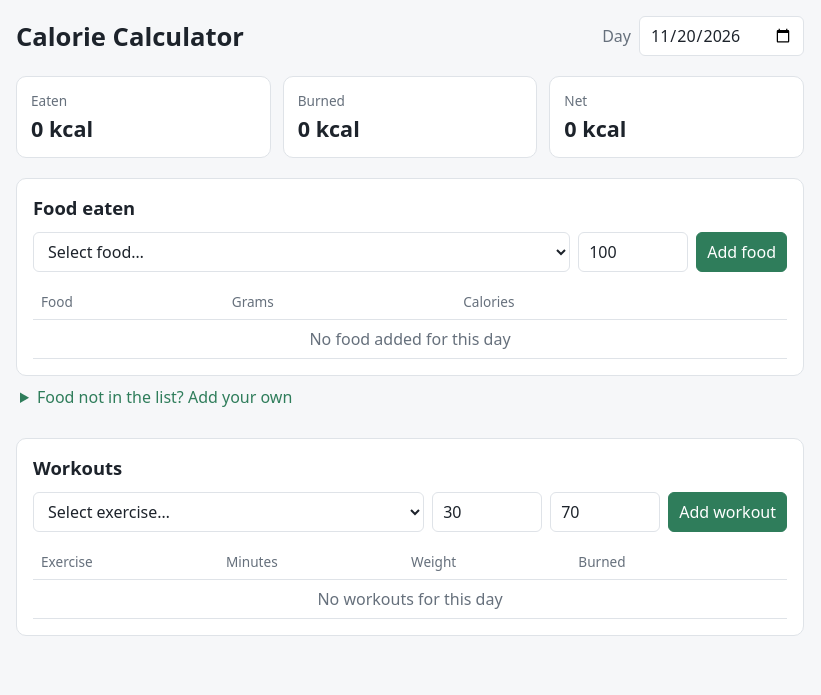
Test case: App › changing the day loads that day
The width and height of the screenshot is (821, 695).
Expected: the cell "Banana" is not shown
Type "2026-01-01" into the date field labelled "Day".
click(722, 36); type("2026-01-01")  # box [639, 16, 804, 56]
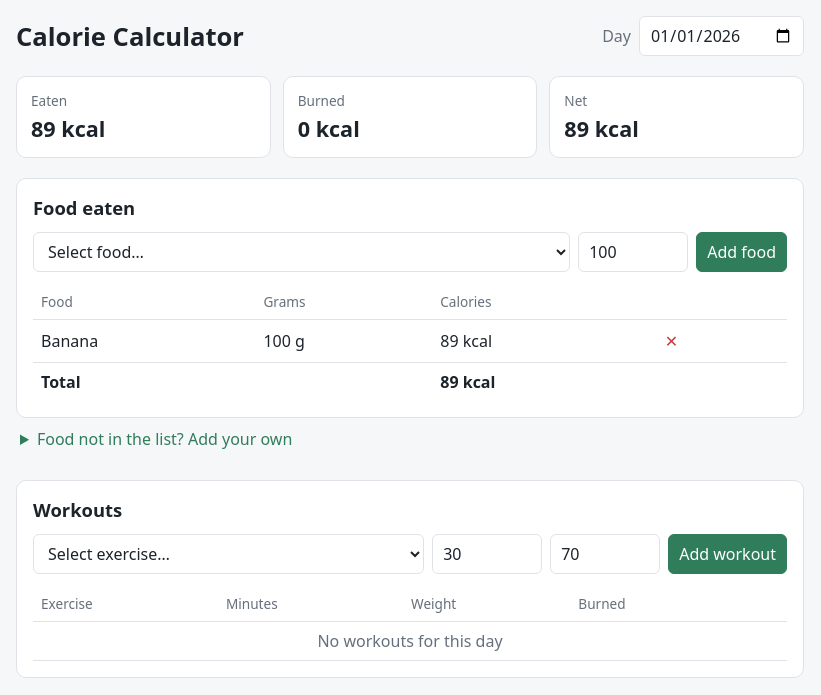
Now the cell "Banana" is shown, box [33, 320, 256, 362]
